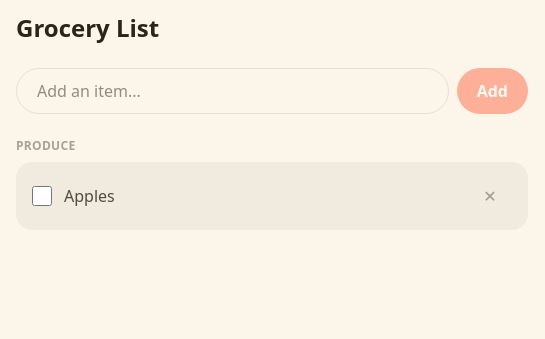
it: Grocery list › removes an item
Expected: the text "Apples" is shown, [64,184,115,208]
Step 1. Click the button named "remove apples" → (490, 196), box [468,174,512,218]
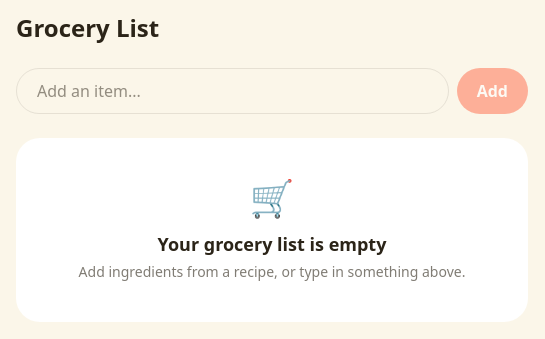
Expected: the text "Your grocery list is empty" is shown, [158,232,386,256]
